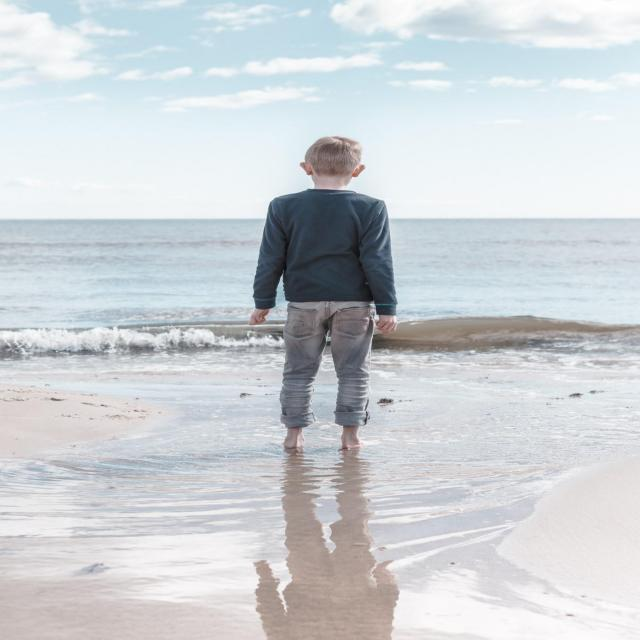person: (154, 106, 474, 492)
